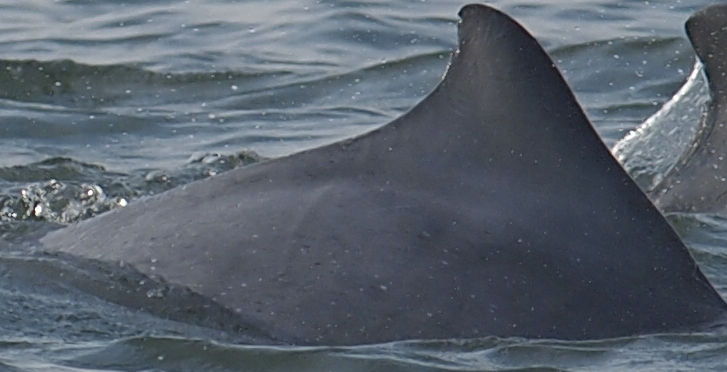fin: (24, 2, 681, 355)
